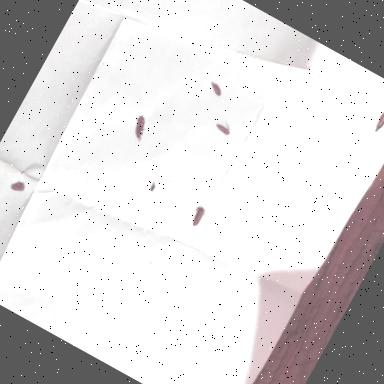pbw: (126, 113, 152, 145), (188, 202, 211, 230), (213, 118, 236, 138), (204, 80, 224, 100)
